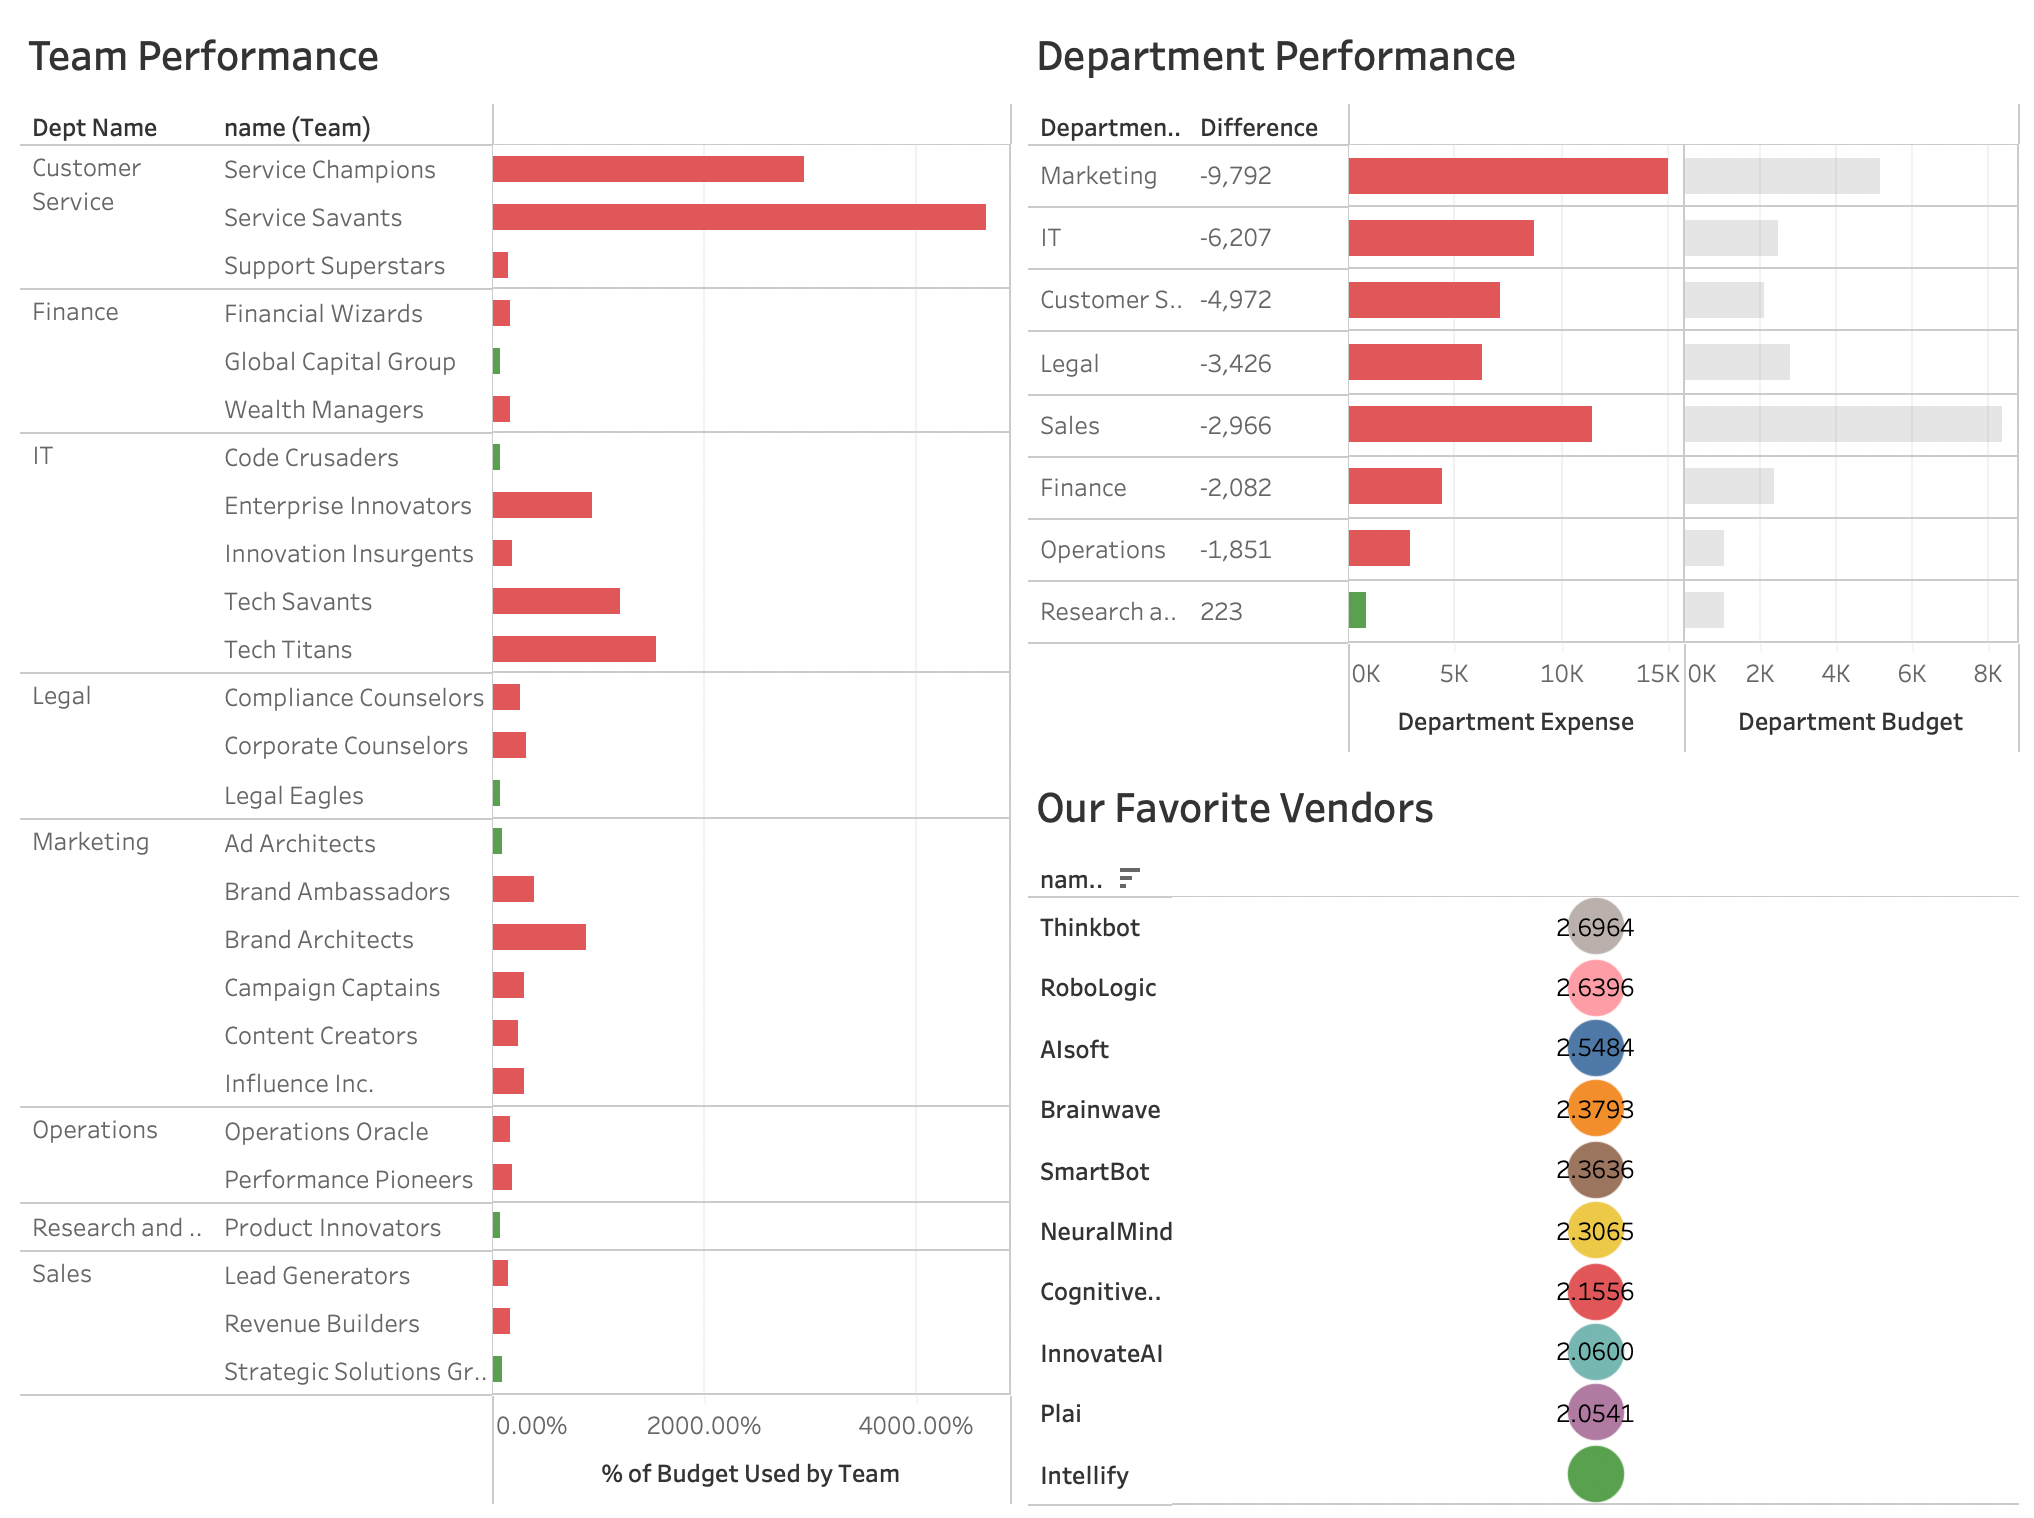

This screenshot's page, from the dashboard's own definition file:
{"tool":"tableau","page":{"name":"Dashboard 1","canvas":[1024,768],"ordinal":0},"visuals":[{"type":"worksheet","title":"Team Spenders","mark":"Automatic","rows":["dept_name","name (Team)"],"cols":["Calculation_2520326962648956933"],"box":[8,8,504,752]},{"type":"worksheet","title":"Department Performance","mark":"Bar","rows":["DepartmentName","Calculation_2520326962633011201"],"cols":["DepartmentExpense","DepartmentBudget"],"box":[512,8,504,376]},{"type":"worksheet","title":"Sheet 3","mark":"Circle","rows":["name (Vendor)"],"box":[512,384,504,376]}]}

Visuals, with their boxes in screenshot pixels (x1, y1, x2, y2), scaled from the page's 1024x768 canvas onto the 2034x1518 screenshot:
"Team Spenders" worksheet: 16/16/1017/1502
"Department Performance" worksheet (Bar marks): 1017/16/2018/759
"Sheet 3" worksheet (Circle marks): 1017/759/2018/1502
